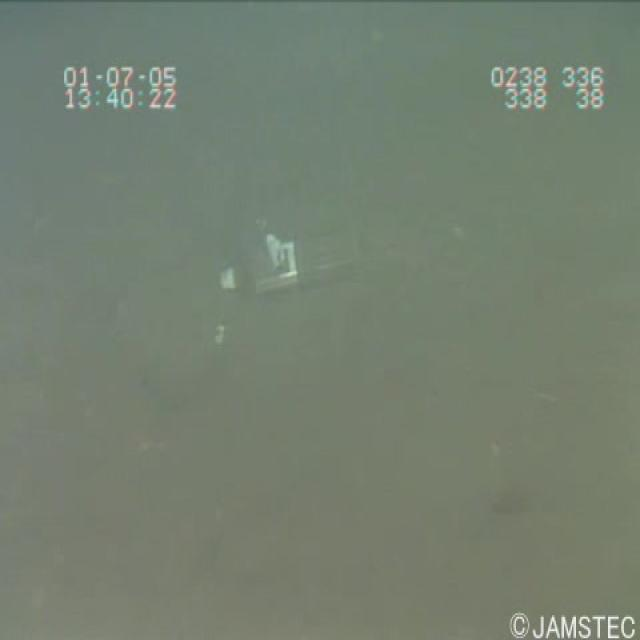plastic: (207, 210, 372, 306)
